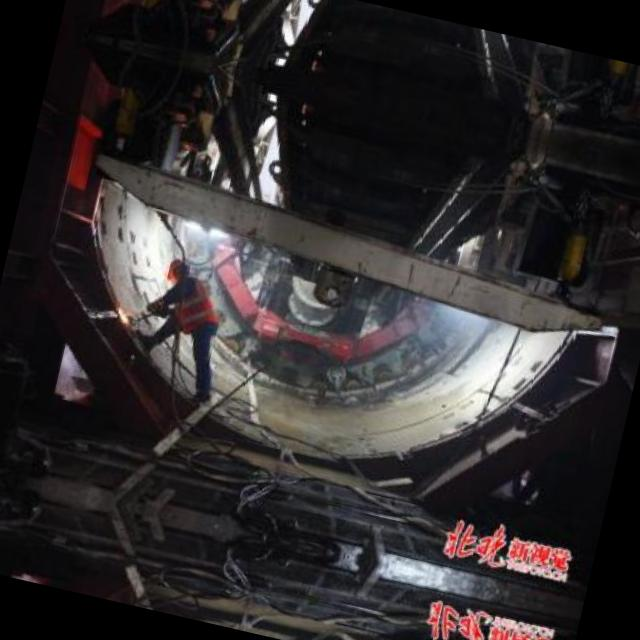helmet: (159, 250, 192, 285)
